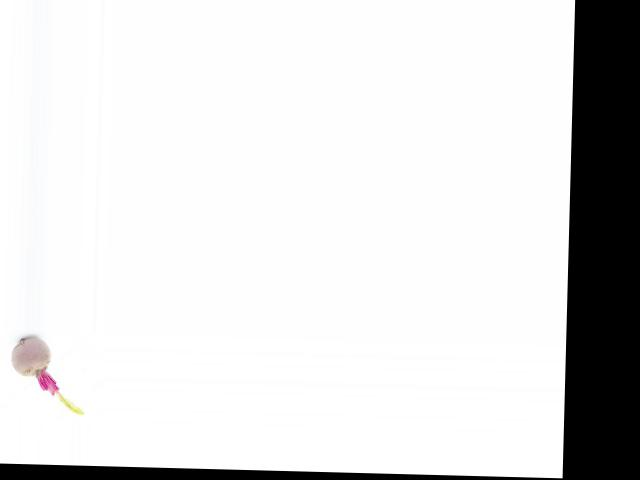beet: (9, 336, 85, 414)
